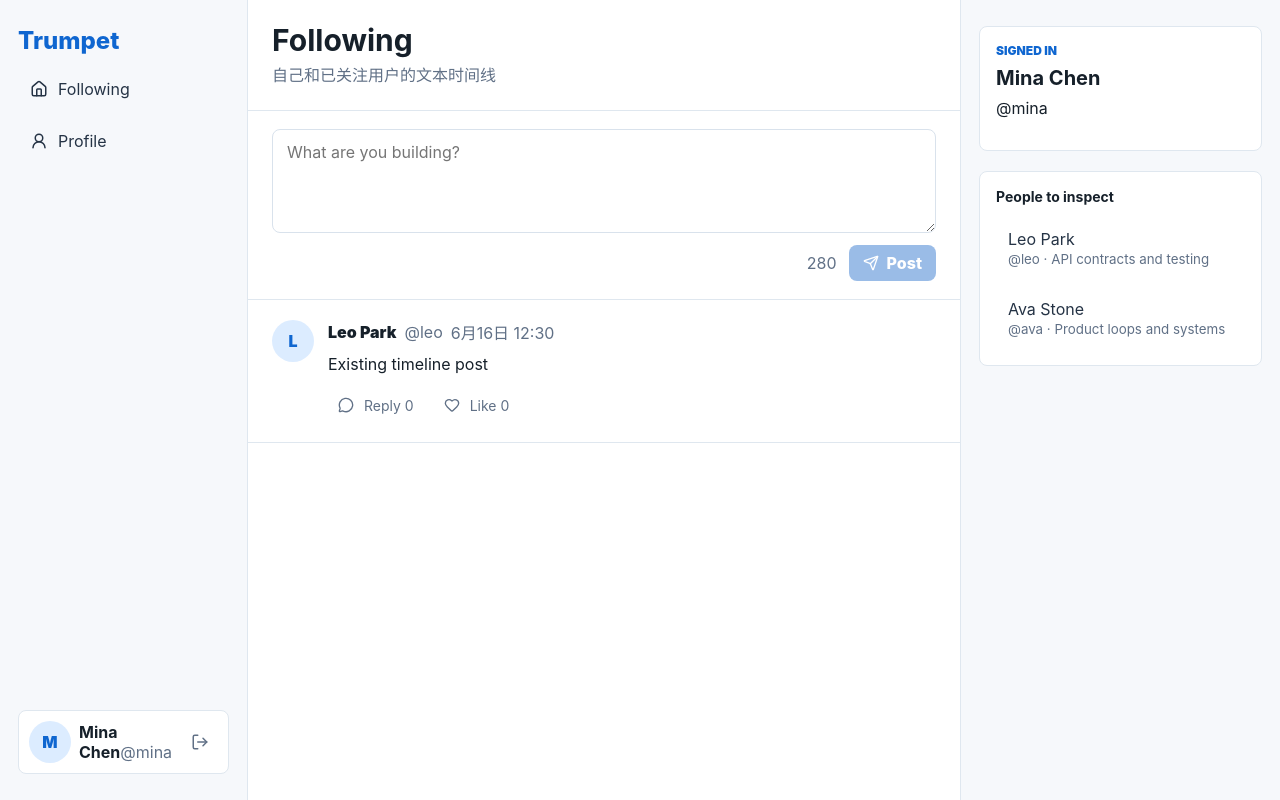
Test: App timeline interactions › likes and unlikes timeline posts in place
Expected: the text "Existing timeline post" is shown, [328,354,488,374]
What coordinates should you click on to do the following:
click the button "Like 0"
I would click on:
 (476, 405)
Its box is [434,389,519,422].
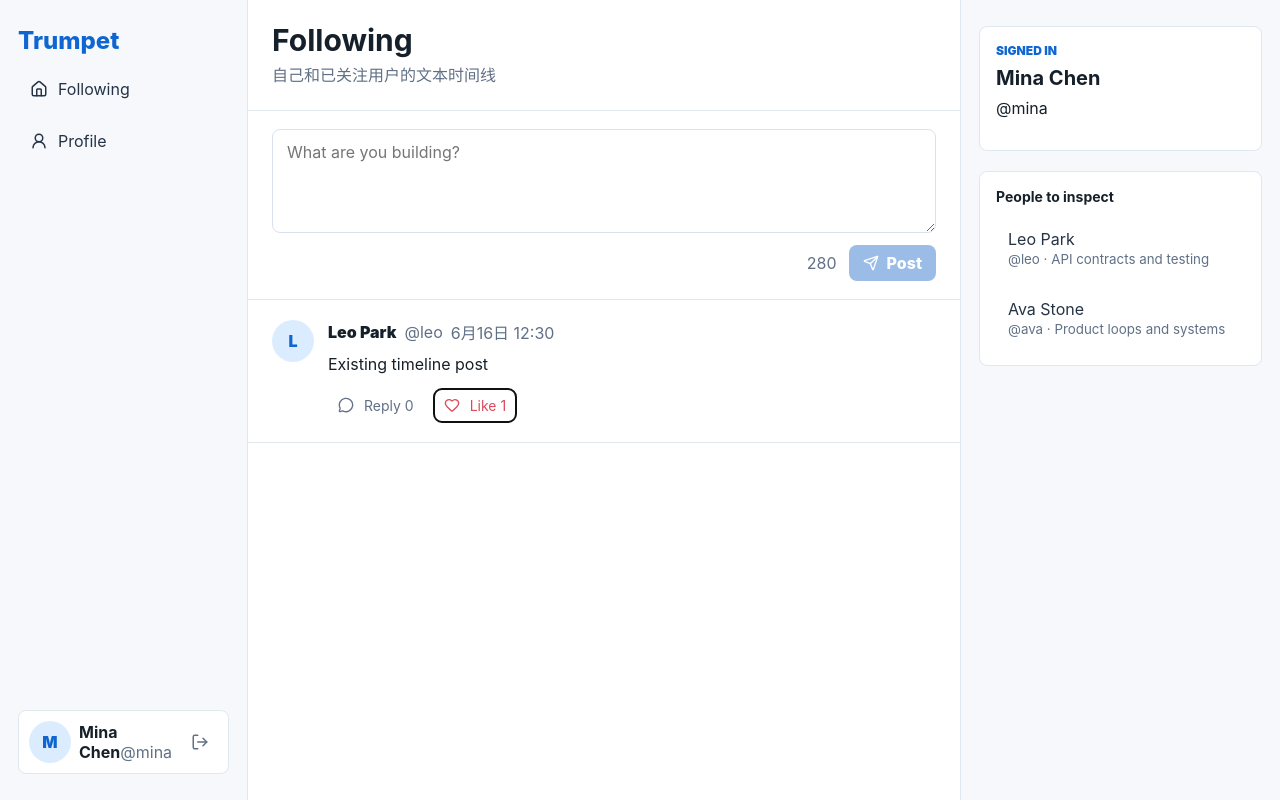
Now the button "Like 1" is shown
What coordinates should you click on to do the following:
click the button "Like 1"
I would click on:
 (475, 405)
Its box is [434,389,516,422].
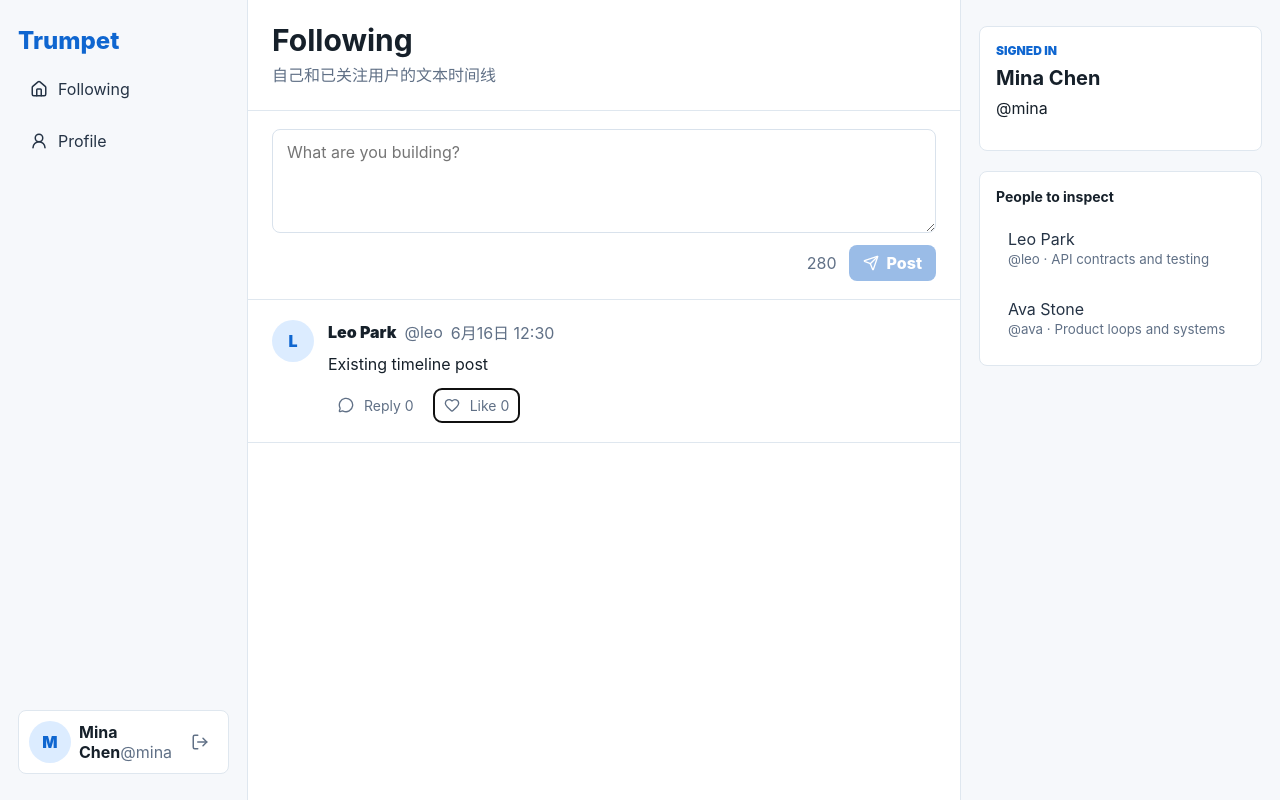
Now the button "Like 0" is shown, box [434,389,519,422]
